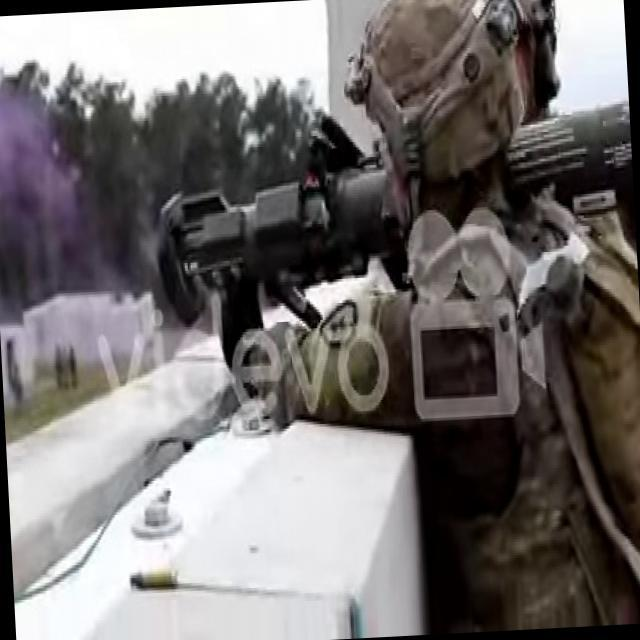rocket: (158, 93, 640, 325)
